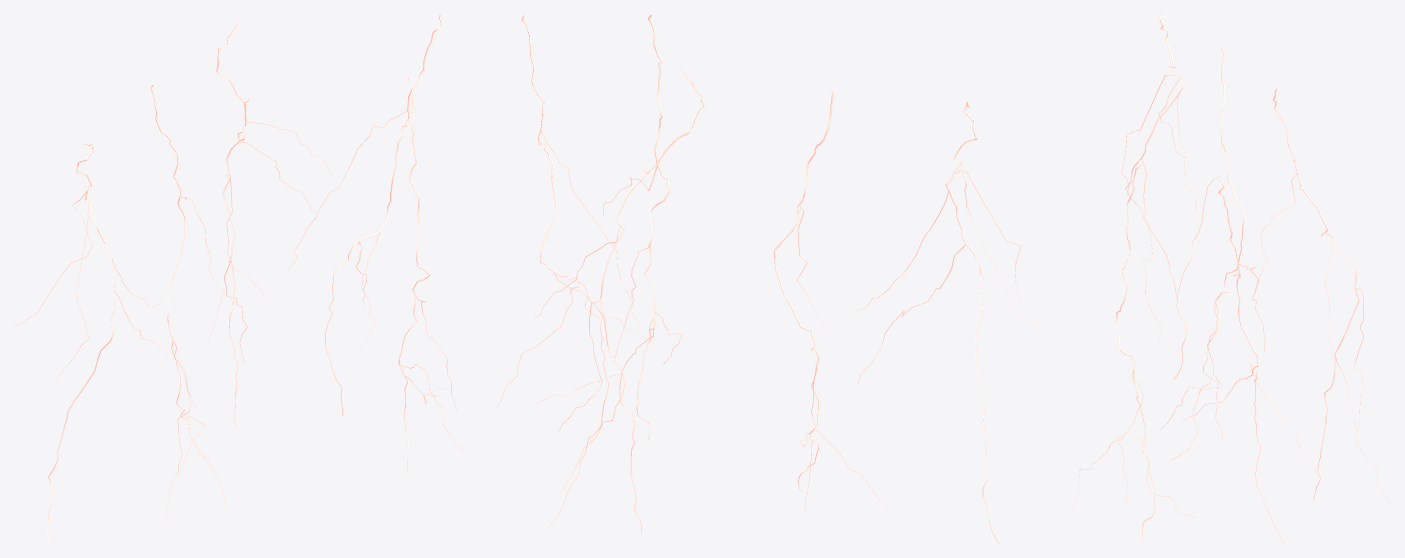
File: red_lightning_effect.glb
The picture shows the model from 3 angles, left to right: view 1: azimuth 30°, elevation 25°; view 2: azimuth 150°, elevation 25°; view 3: azimuth 270°, elevation 25°; orthographic projection. The views are drawn at different scales.
Parts seen in each view (by area): view 1: lightning_bolt_01, lightning_bolt_03, lightning_bolt_02, lightning_bolt_05, lightning_bolt_04; view 2: lightning_bolt_01, lightning_bolt_03, lightning_bolt_05, lightning_bolt_02, lightning_bolt_04; view 3: lightning_bolt_03, lightning_bolt_01, lightning_bolt_02, lightning_bolt_04, lightning_bolt_05.
Boxes of the visible parts, x1,y1,x2,y2 form: lightning_bolt_01: (14,142,196,543); lightning_bolt_03: (215,23,331,427); lightning_bolt_02: (150,85,225,521); lightning_bolt_05: (287,15,442,415); lightning_bolt_04: (398,77,467,472); lightning_bolt_01: (849,101,1043,543); lightning_bolt_03: (535,69,704,532); lightning_bolt_05: (497,15,660,496); lightning_bolt_02: (773,90,889,510); lightning_bolt_04: (537,14,681,440); lightning_bolt_03: (1255,88,1390,501); lightning_bolt_01: (1121,14,1201,379); lightning_bolt_02: (1161,49,1245,460); lightning_bolt_04: (1072,160,1205,539); lightning_bolt_05: (1182,183,1318,543).
Size of the model in its own units: 35.73 by 32.36 by 23.11.
